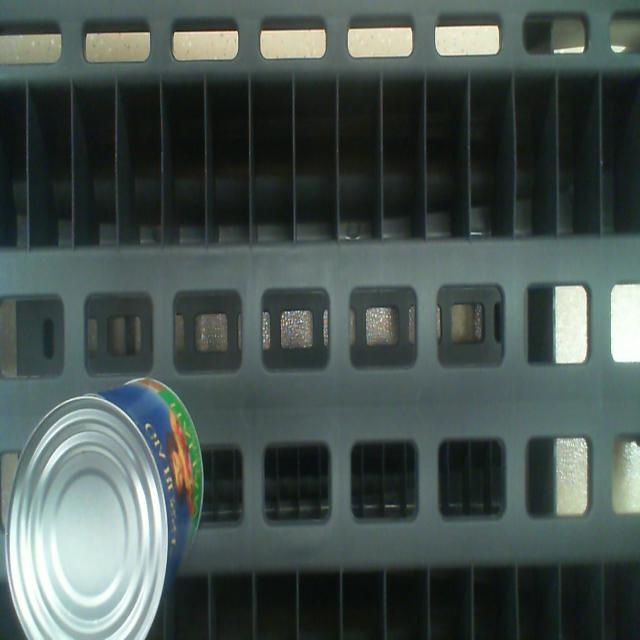can: (5, 394, 167, 640)
